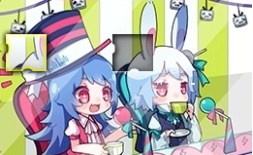gap: (112, 34, 153, 71)
